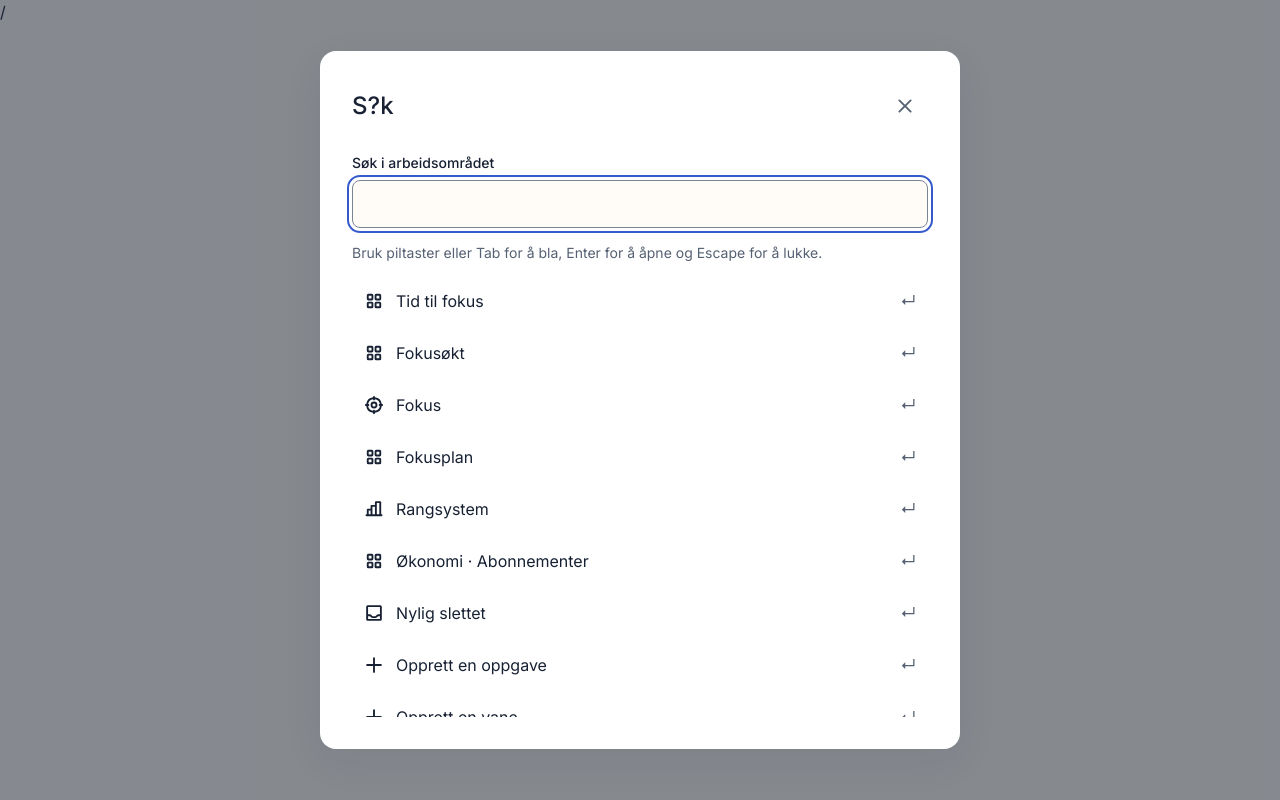
ranks localized exact and prefix actions before substring matches, preserving ties and empty order
In the field: (640, 204) [352, 180, 928, 228], type "  FOKUS  "
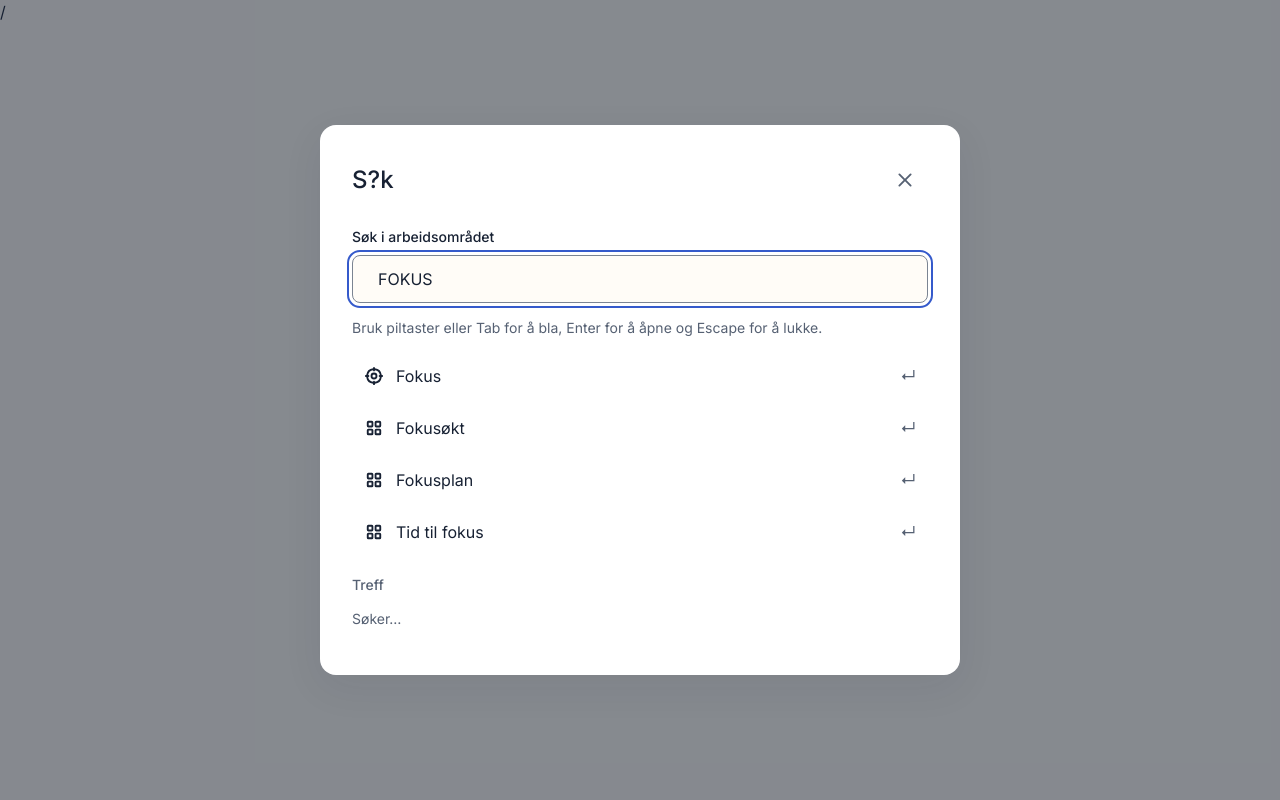
Press Enter
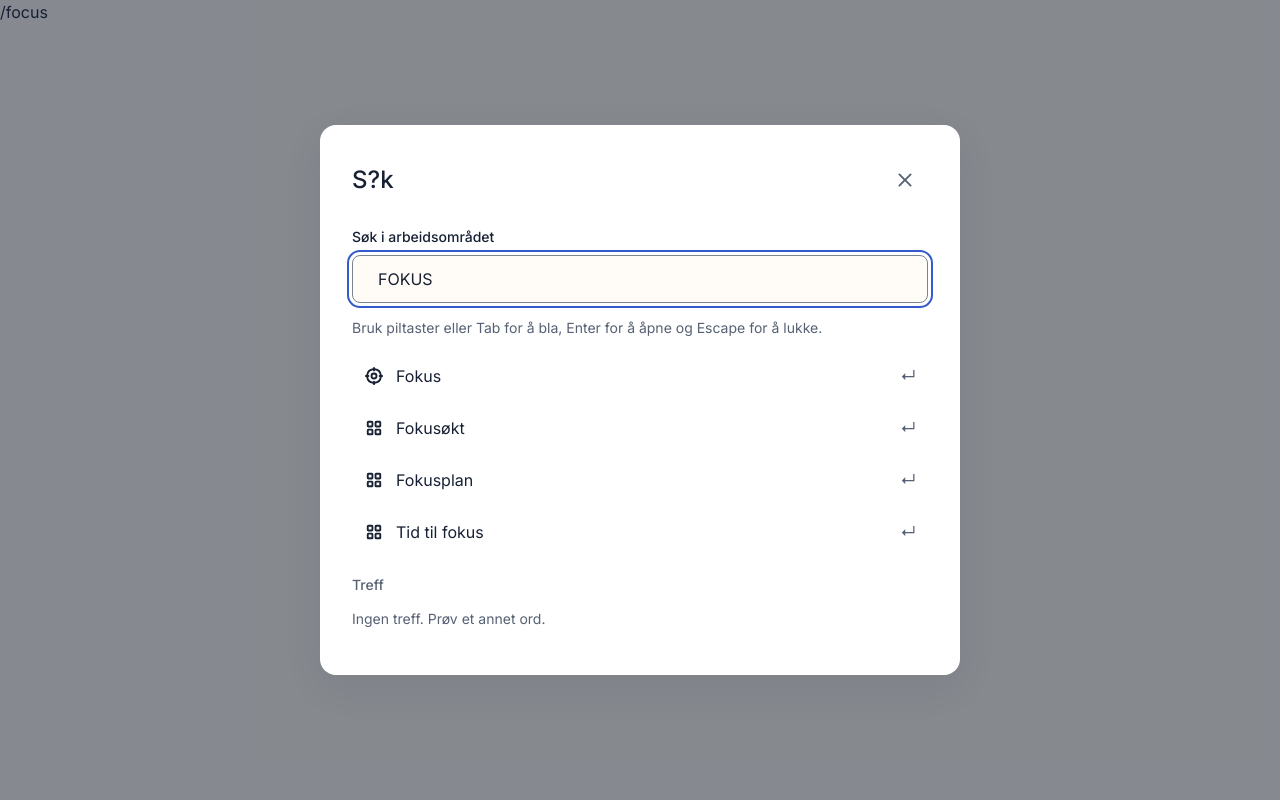
Check: the text with test id "location" reads "/focus", box [0, 2, 48, 22]
